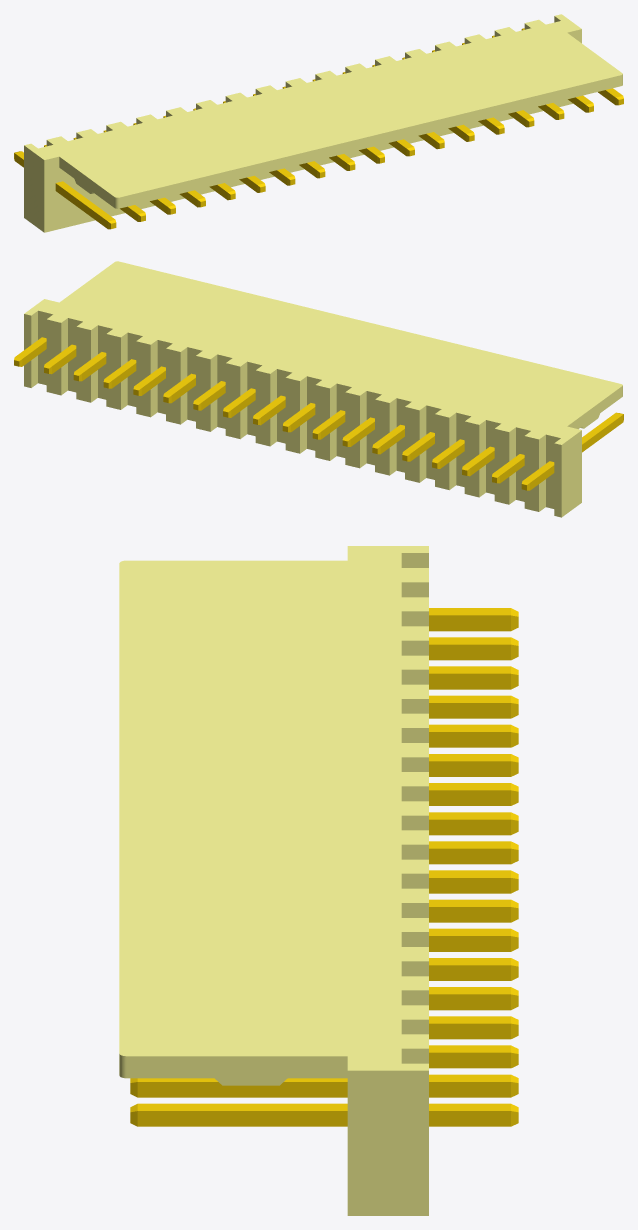
The model's file is DS1070-18 (WF-18 CONNFLY).obj.
The picture shows the model from 3 angles, top to bottom: view 1: azimuth 30°, elevation 25°; view 2: azimuth 150°, elevation 25°; view 3: azimuth 270°, elevation 25°; orthographic projection. The views are drawn at different scales.
Parts seen in each view (by area): view 1: DS1070-18_(WF-18_CONNFLY); view 2: DS1070-18_(WF-18_CONNFLY); view 3: DS1070-18_(WF-18_CONNFLY).
Part boxes in pixels (left/top/right/bottom): DS1070-18_(WF-18_CONNFLY): left=14, top=14, right=623, bottom=232; DS1070-18_(WF-18_CONNFLY): left=14, top=261, right=623, bottom=517; DS1070-18_(WF-18_CONNFLY): left=119, top=546, right=518, bottom=1215.
Size of the model in its own units: 0.0298 by 0.00385 by 0.00958.
